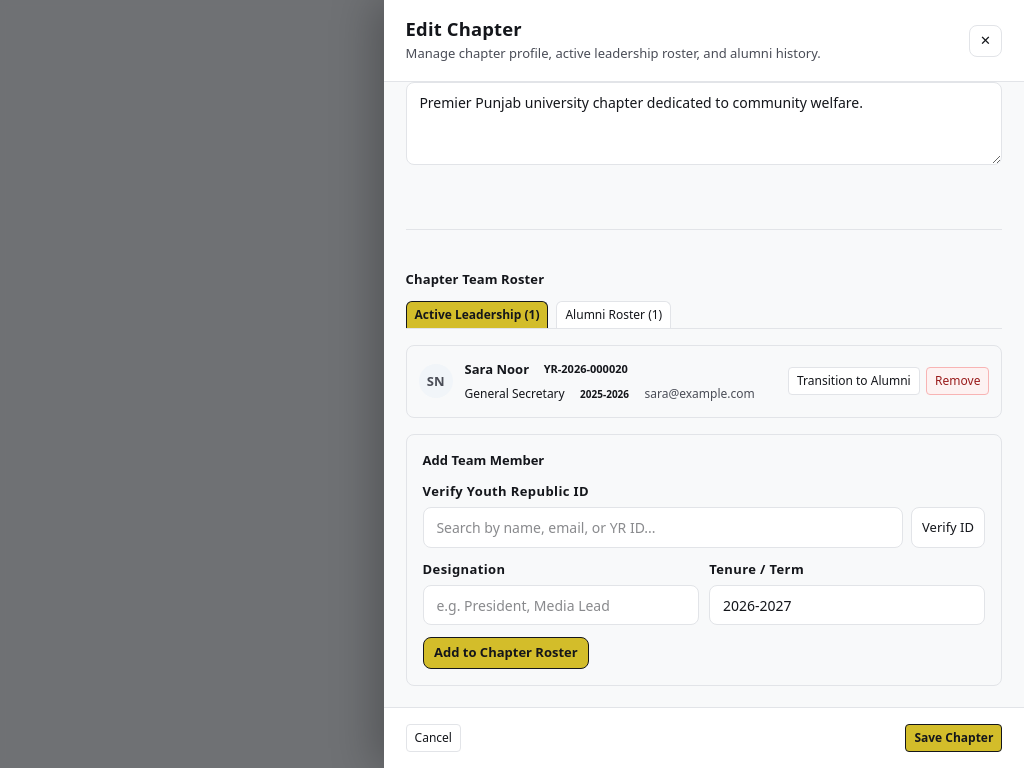
Test: EditChapterDrawer › shows error when YR ID lookup returns not found
(page scrolled)
Type "YR-9999-999999" into the field labelled "Verify Youth Republic ID". click: point(663, 527)
box: [423, 507, 903, 548]
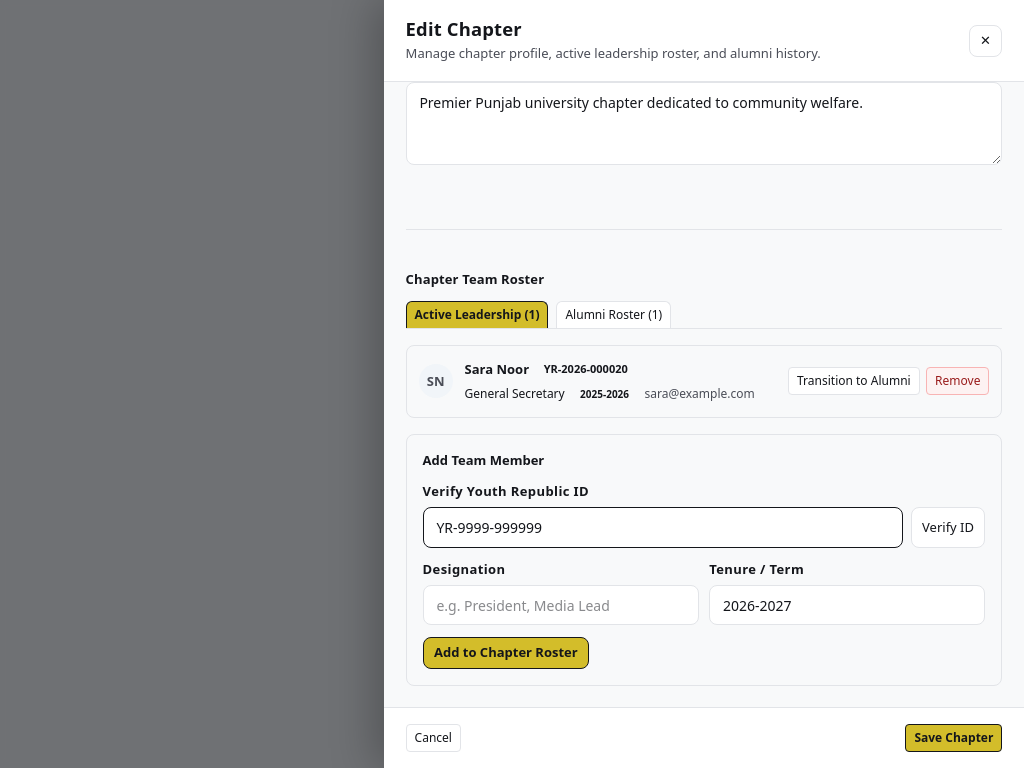
Click the button "Verify ID". click: point(948, 527)
box: [911, 507, 985, 548]
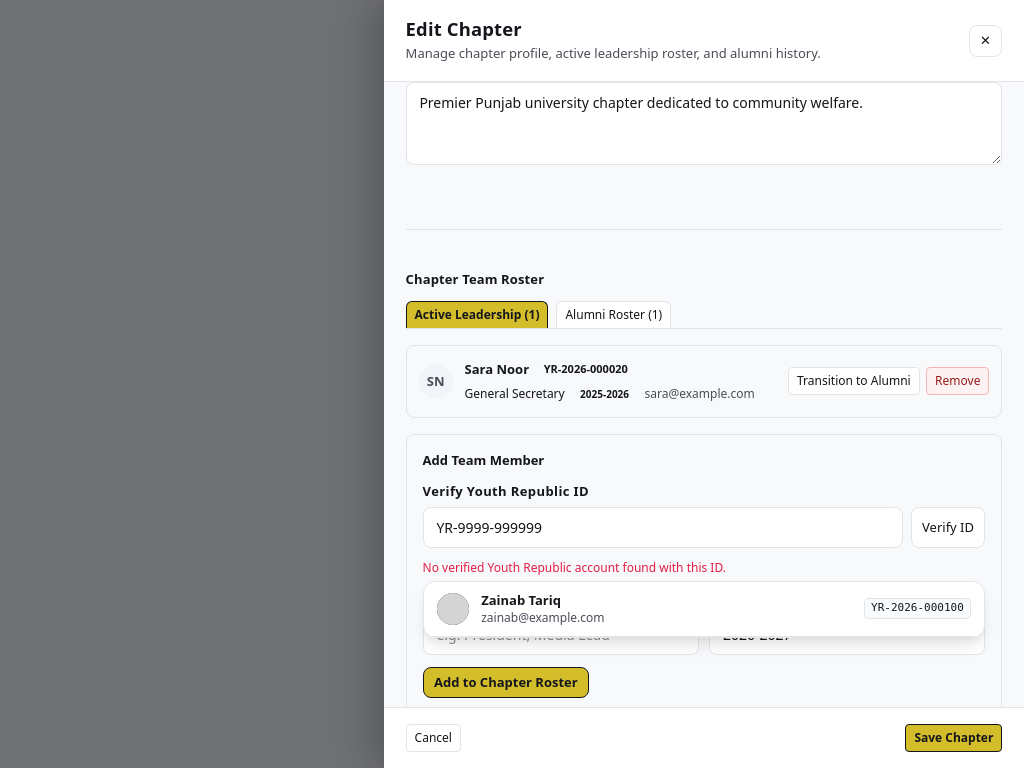
Now the text "No verified Youth Republic account found with this ID." is shown, box [423, 559, 726, 576]
